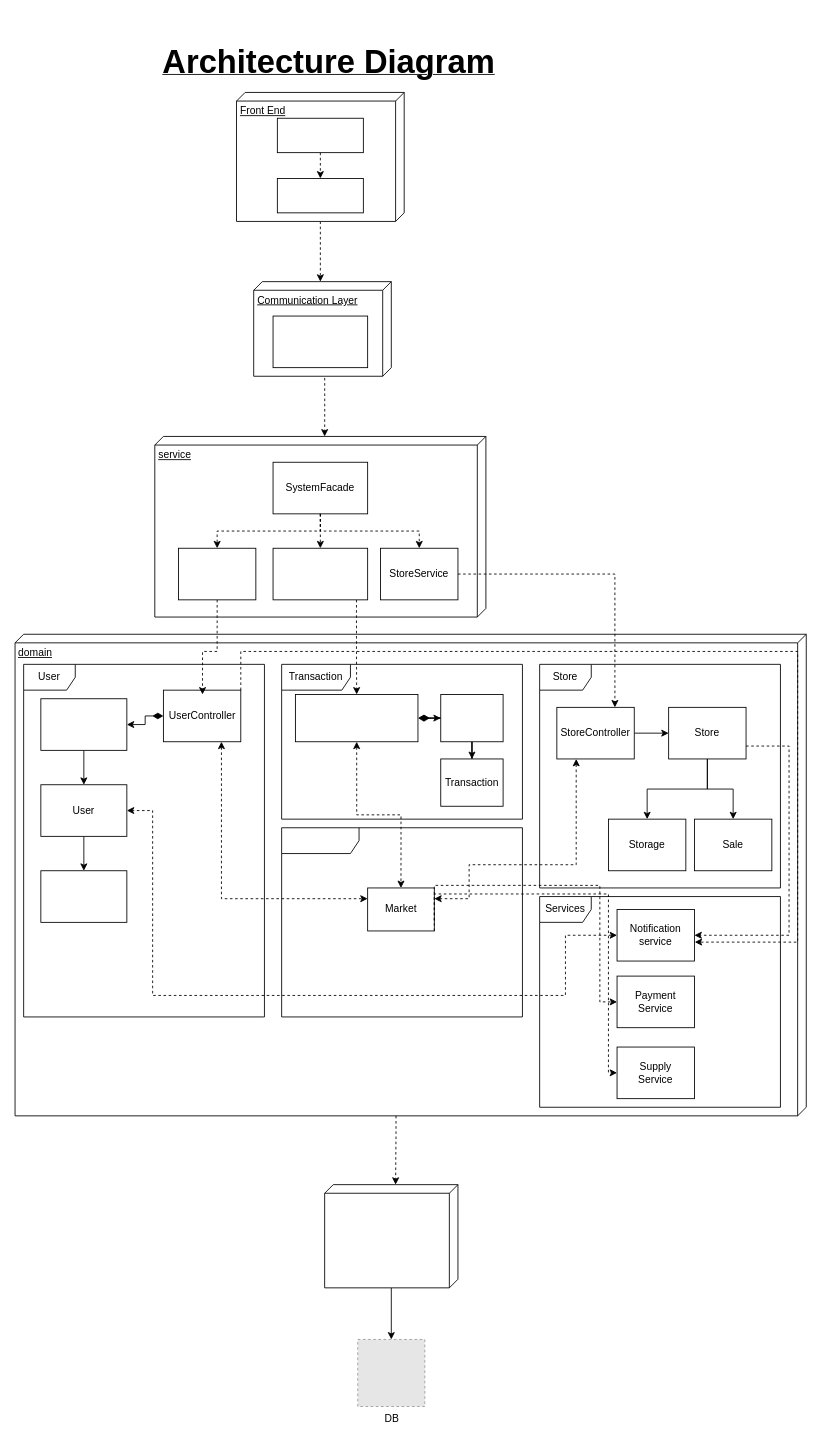
Image size: 821x1439. Some labels were removed from this diagram. Grey dashed boxes stand in for pictures. The centre of each missing label's shape, as x and y in pixels:
Cart: pixel 83 896
communication: pixel 320 341
FEController: pixel 319 195
Hibernate (ORM): pixel 391 1236
History: pixel 471 718
MarketLogic: pixel 401 922
SessionManager: pixel 83 724
TransactionController: pixel 356 718
TransactionService: pixel 320 573
UI: pixel 319 135
UserService: pixel 217 573
